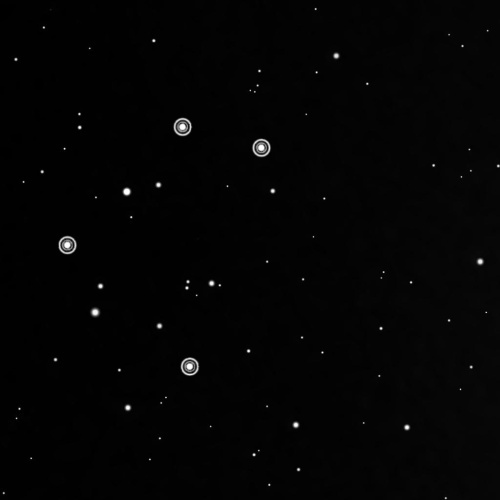coma_berenices: (50, 114, 282, 385)
